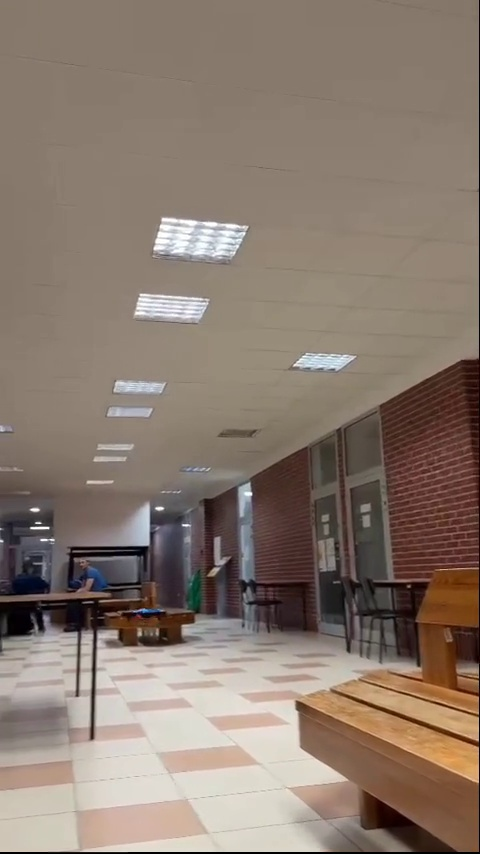drone: (124, 605, 171, 623)
no vest: (68, 550, 102, 610)
